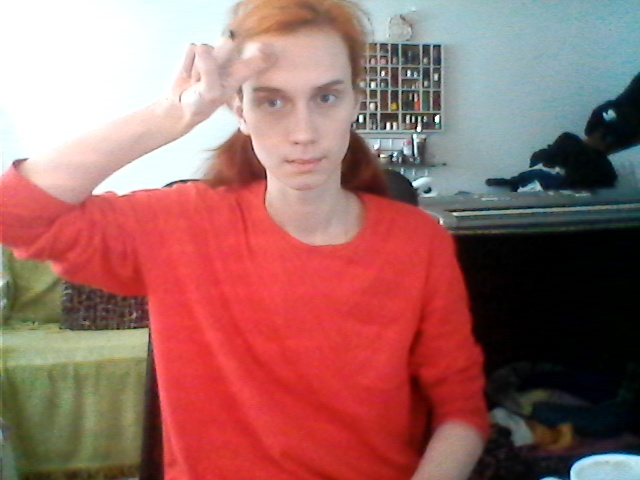chlapec: (165, 29, 285, 122)
